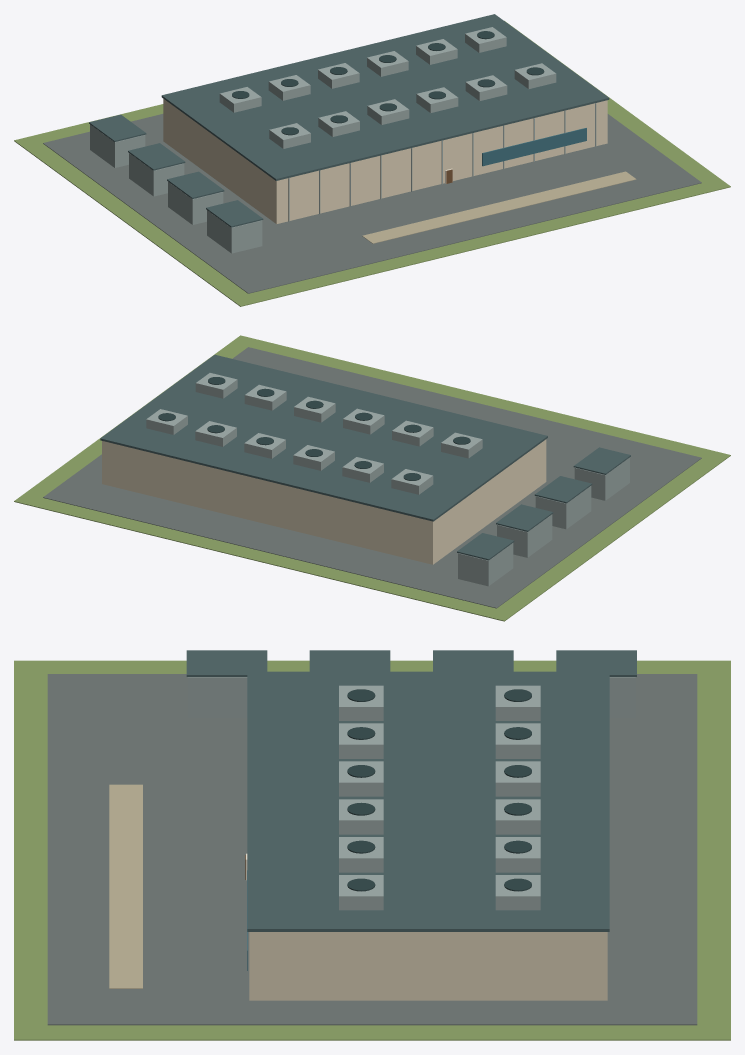
Rendered from data-center.glb.
3 renders of one model, top to bottom at view 1: azimuth 30°, elevation 25°; view 2: azimuth 150°, elevation 25°; view 3: azimuth 270°, elevation 25°, orthographic. The views are drawn at different scales.
Parts seen in each view (by area): view 1: data-center; view 2: data-center; view 3: data-center.
Boxes of the visible parts, left/top/right/bottom form: data-center: left=14, top=14, right=730, bottom=306; data-center: left=14, top=335, right=730, bottom=621; data-center: left=14, top=650, right=730, bottom=1040.
Bounding box in the file's own units: 80 × 8.86 × 64.
